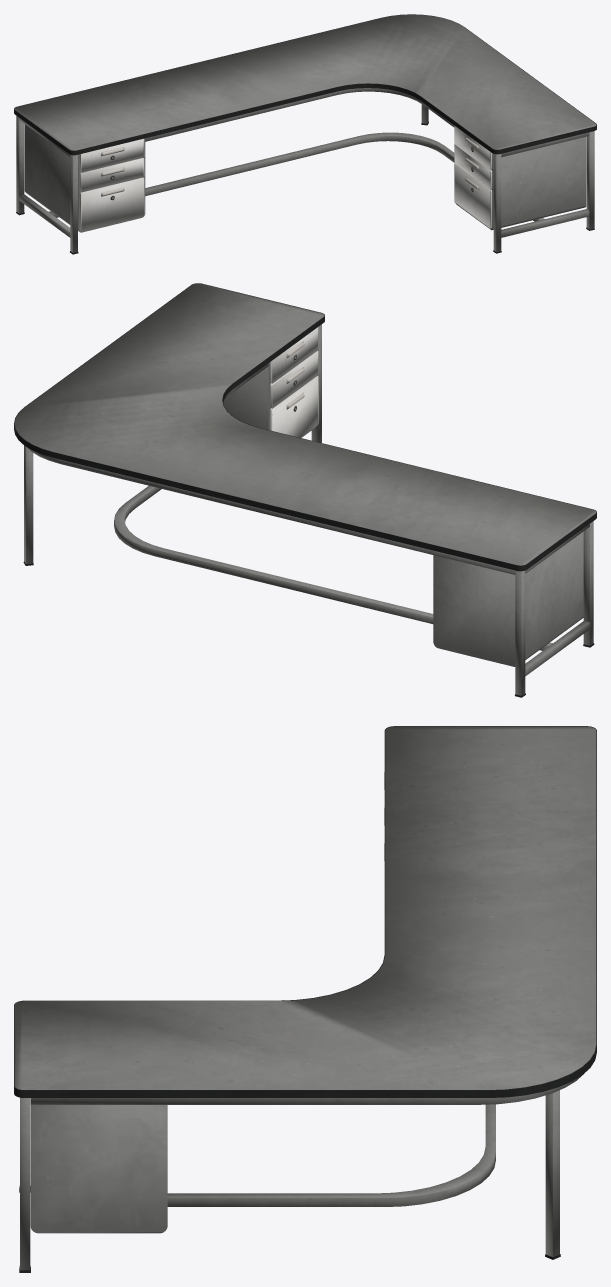
Rendered from cargo_desk.glb.
The picture shows the model from 3 angles, top to bottom: view 1: azimuth 30°, elevation 25°; view 2: azimuth 150°, elevation 25°; view 3: azimuth 270°, elevation 25°; orthographic projection. The views are drawn at different scales.
Visible parts, largest first — view 1: KB3D_ECE_PropDesk_A_Main; view 2: KB3D_ECE_PropDesk_A_Main; view 3: KB3D_ECE_PropDesk_A_Main.
Boxes of the visible parts, bbox=[...] form: KB3D_ECE_PropDesk_A_Main: bbox=[14, 14, 596, 254]; KB3D_ECE_PropDesk_A_Main: bbox=[14, 283, 596, 697]; KB3D_ECE_PropDesk_A_Main: bbox=[14, 726, 596, 1272].
Size of the model in its own units: 1.6 by 0.3784 by 1.08.
5 materials, 5 textured.
